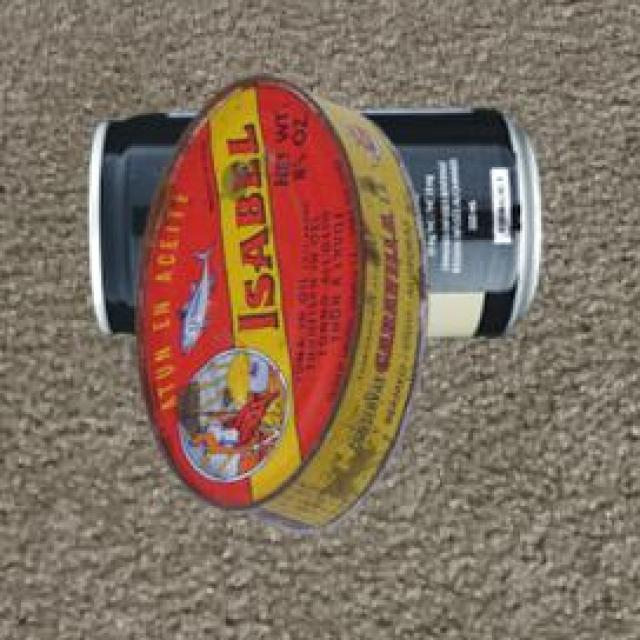logam: (135, 72, 422, 531), (86, 107, 538, 335)
